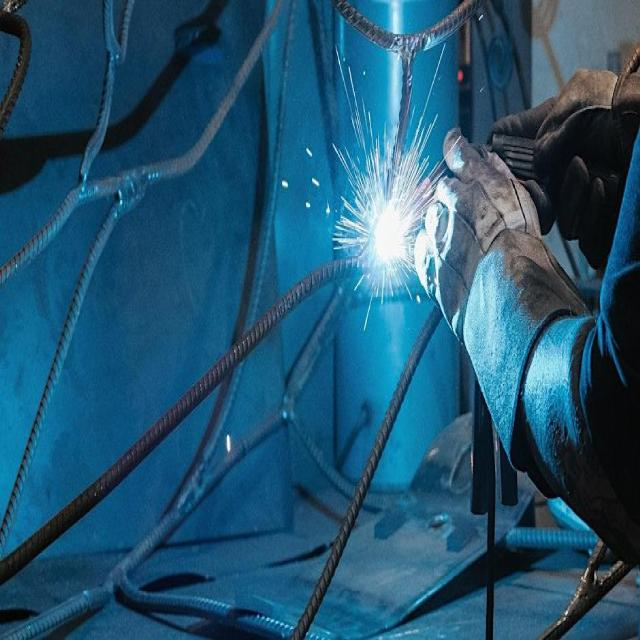welding: (372, 203, 404, 270)
